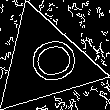O_W: (14, 34, 77, 90)
